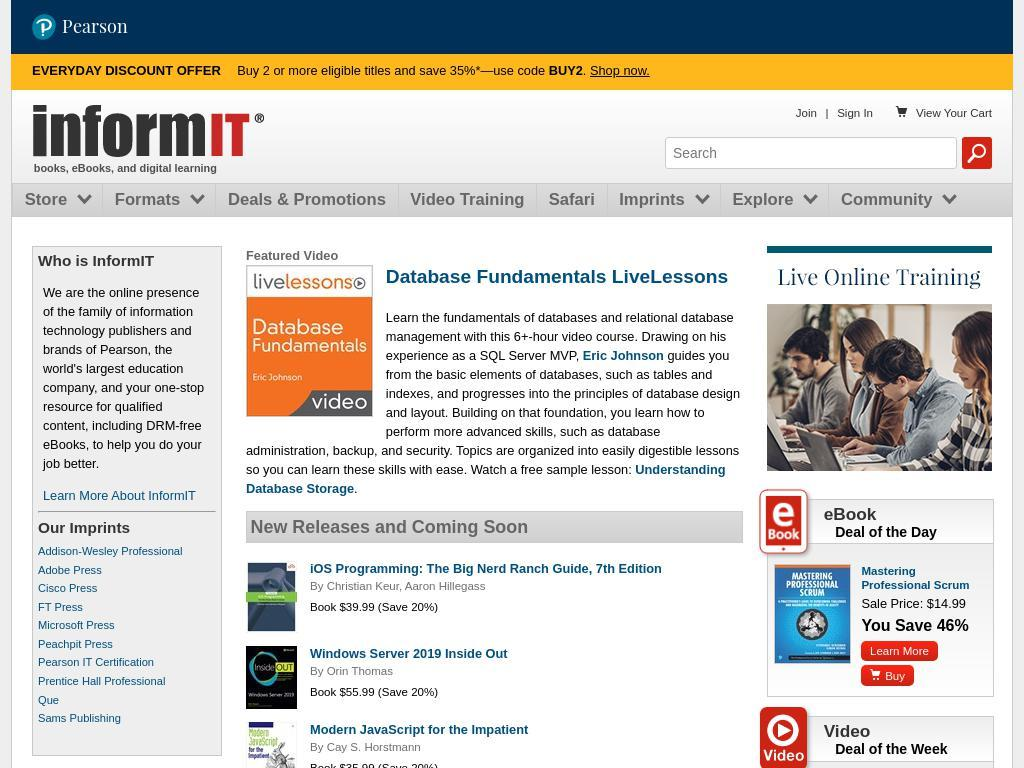button: (215, 184, 398, 217), (397, 184, 537, 217), (828, 184, 958, 217), (102, 184, 206, 217), (606, 184, 710, 217), (719, 184, 819, 217), (12, 184, 93, 217), (536, 184, 607, 217), (861, 640, 938, 662), (861, 664, 914, 687), (771, 503, 772, 504), (851, 563, 852, 564), (771, 720, 772, 721)
field: (665, 137, 958, 170), (961, 137, 992, 169)
heading: (385, 266, 728, 287), (250, 516, 528, 537), (823, 503, 990, 524), (823, 720, 990, 741), (38, 519, 216, 538), (38, 252, 216, 270), (835, 523, 990, 540), (835, 740, 990, 757)
image: (767, 246, 992, 471), (767, 500, 995, 699), (246, 265, 371, 415), (32, 104, 267, 157), (767, 717, 995, 768), (774, 563, 850, 662), (246, 561, 297, 634), (246, 645, 297, 709), (246, 721, 297, 768), (32, 14, 118, 40)
link: (246, 462, 726, 497), (310, 561, 662, 577), (310, 721, 528, 737), (310, 645, 508, 661), (861, 564, 971, 591), (43, 487, 196, 503), (38, 545, 183, 558), (38, 674, 165, 687), (38, 656, 154, 669), (582, 348, 664, 364), (326, 740, 421, 753), (38, 712, 121, 725), (404, 580, 485, 593), (38, 619, 115, 632), (589, 63, 650, 79), (38, 637, 113, 650), (326, 580, 399, 593), (326, 665, 393, 678), (38, 563, 102, 576), (38, 582, 97, 595), (38, 600, 83, 613), (837, 106, 874, 119), (795, 106, 817, 119), (38, 693, 59, 706)
text: (246, 348, 740, 478), (43, 282, 211, 473), (385, 310, 734, 364), (246, 246, 743, 265), (310, 599, 743, 616), (310, 684, 743, 701), (237, 63, 550, 79), (310, 760, 743, 768), (32, 63, 221, 79), (861, 614, 987, 637), (33, 162, 217, 175), (861, 594, 987, 612), (62, 14, 128, 38), (943, 106, 992, 119), (548, 63, 583, 79), (916, 106, 945, 119), (896, 105, 914, 122), (885, 669, 906, 682), (816, 106, 837, 119), (870, 668, 886, 683), (310, 580, 327, 593), (310, 665, 327, 678), (310, 740, 327, 753), (582, 63, 590, 79), (398, 580, 405, 593), (354, 481, 359, 497)
